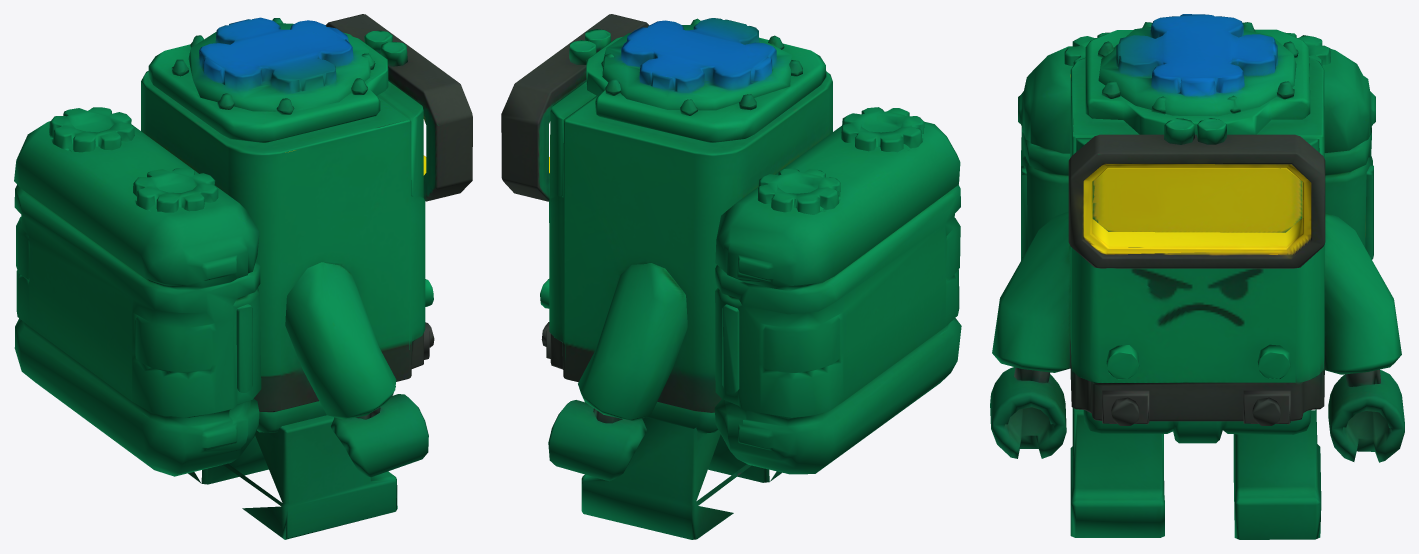
File: alien_tank.glb
3 views of the same model, side by side, from view 1: azimuth 30°, elevation 25°; view 2: azimuth 150°, elevation 25°; view 3: azimuth 270°, elevation 25° (orthographic). The views are drawn at different scales.
Visible parts, largest first — view 1: tripo_node_1382f5b0-1029-43c5-9b39-1fbade60ae79; view 2: tripo_node_1382f5b0-1029-43c5-9b39-1fbade60ae79; view 3: tripo_node_1382f5b0-1029-43c5-9b39-1fbade60ae79.
Part boxes in pixels (x1,y1,x2,y2): tripo_node_1382f5b0-1029-43c5-9b39-1fbade60ae79: (14, 14, 472, 539); tripo_node_1382f5b0-1029-43c5-9b39-1fbade60ae79: (501, 14, 961, 539); tripo_node_1382f5b0-1029-43c5-9b39-1fbade60ae79: (990, 14, 1404, 539).
Size of the model in its own units: 0.7949 by 0.998 by 0.8145.
Materials: 1 (1 with a texture image).
